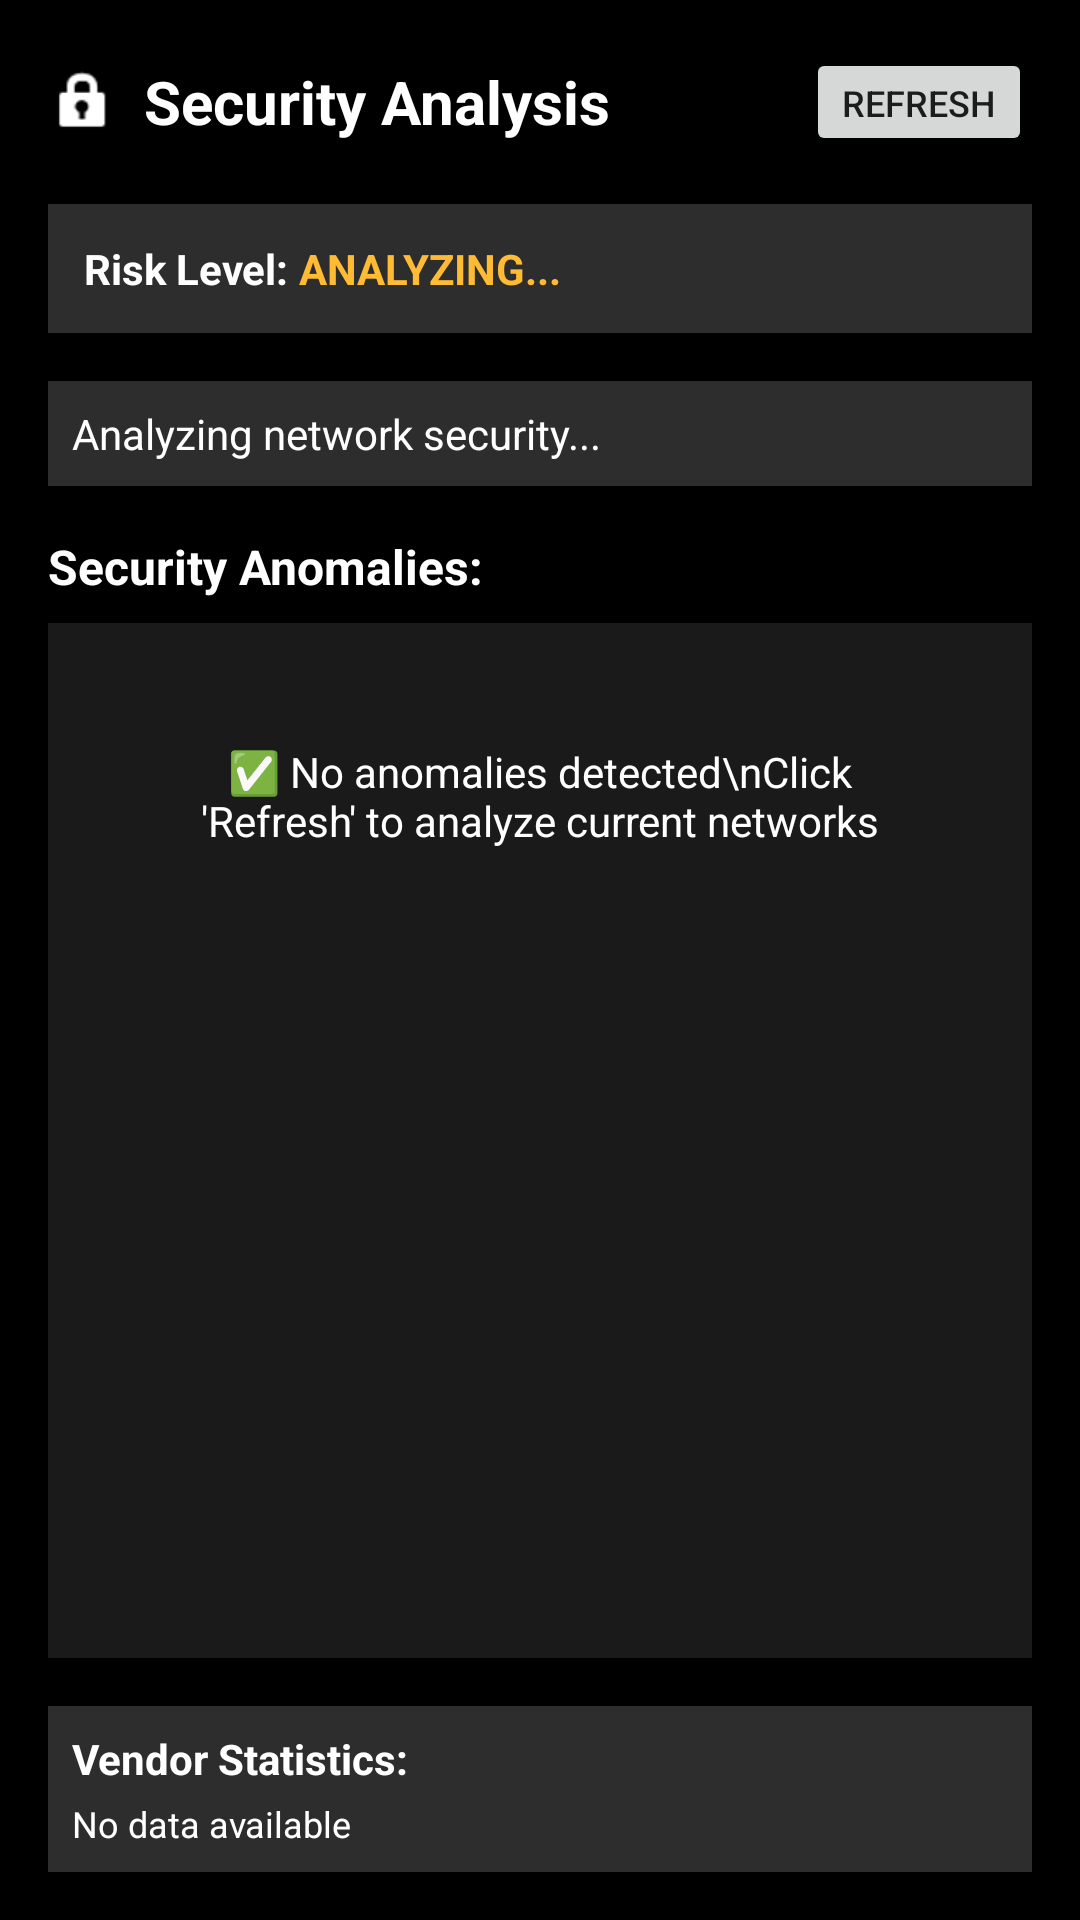

Named icons in this screenshot (1080 x 1920) and their bounding boxes, (x1, y1, x2, y2):
lock idle: (59, 72, 106, 127)
